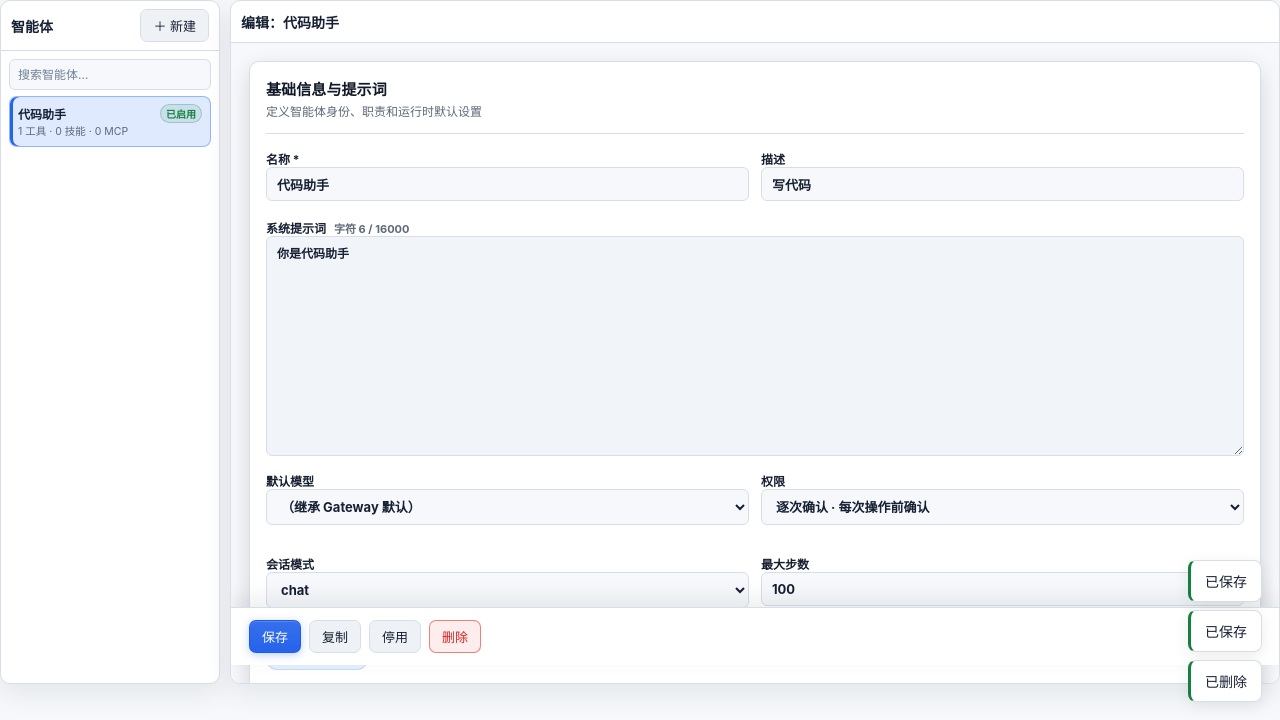
it: AgentEditorPage › blocks switching when dirty until confirmed
The width and height of the screenshot is (1280, 720).
Expected: the text "编辑：代码助手" is shown, top-left (241, 12), bottom-right (339, 32)
Step 1. Replace the text in the field labelled "名称 *" with "改名" → {"x": 508, "y": 184}, box top-left (266, 167), bottom-right (749, 201)
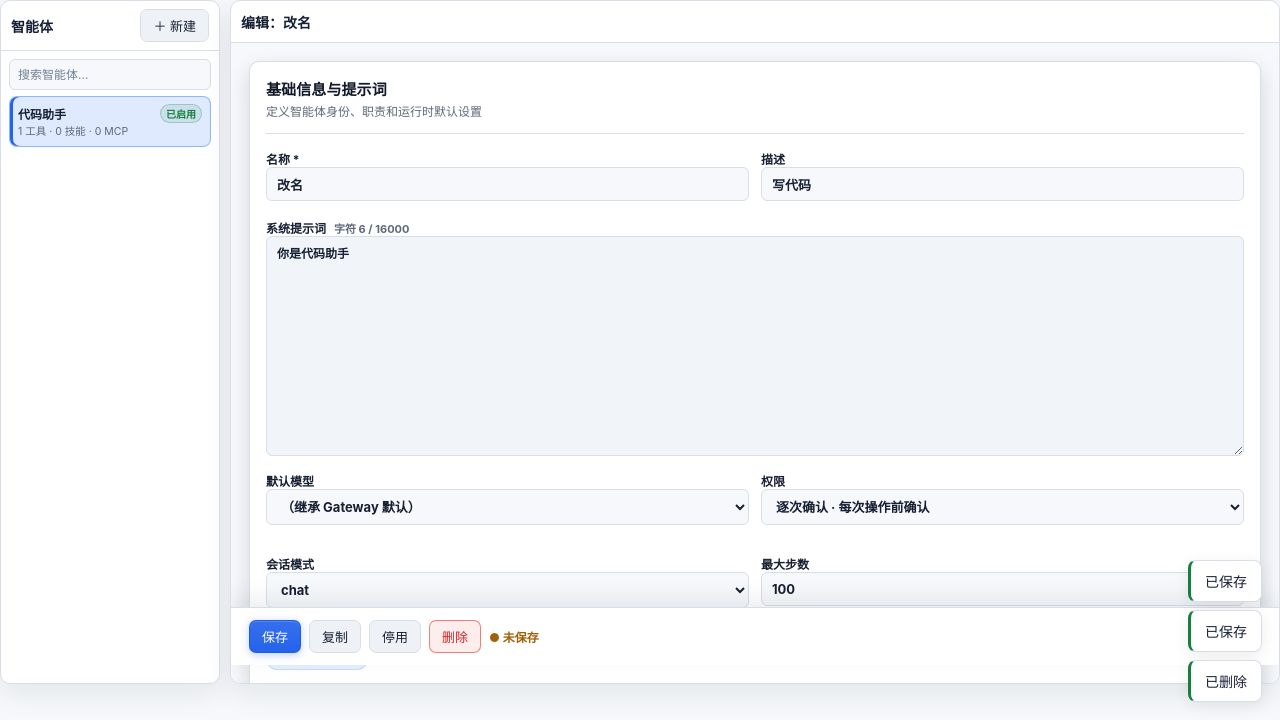
Note: dirty switch shows the confirm dialog instead of switching
Step 2. Click the text "代码助手" → {"x": 42, "y": 114}, box top-left (18, 107), bottom-right (66, 122)
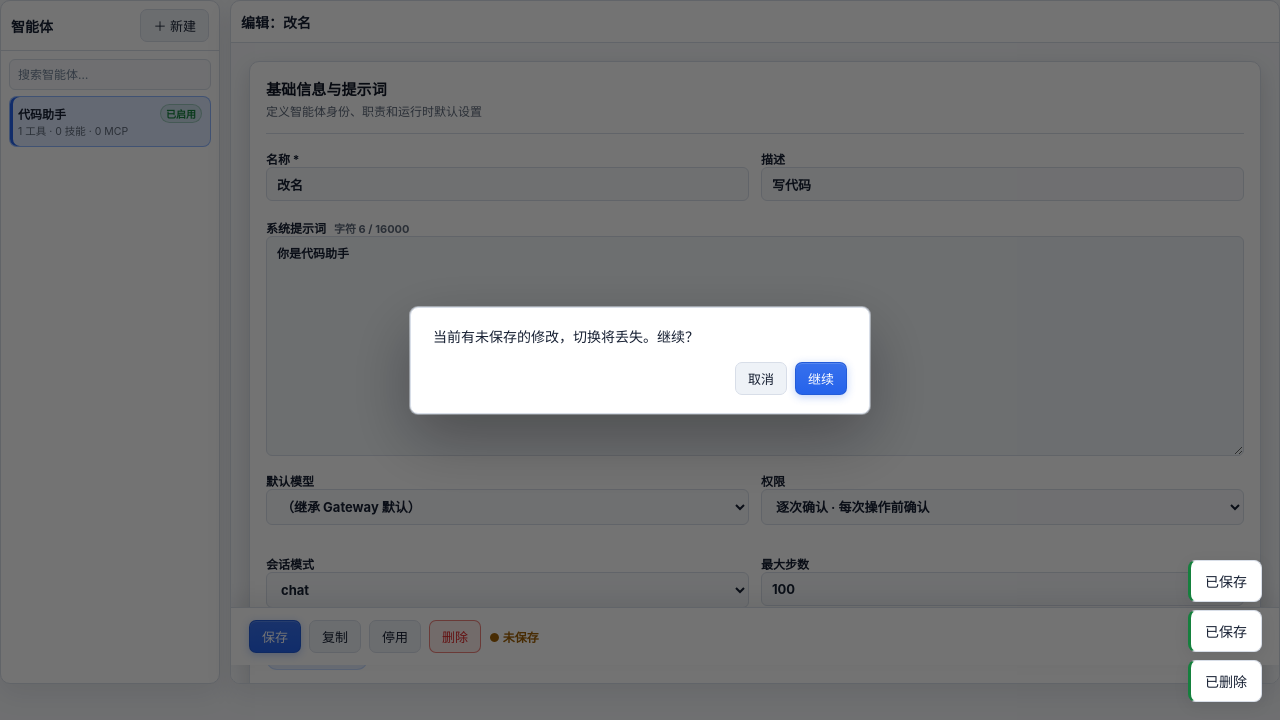
Result: the text "当前有未保存的修改，切换将丢失。继续？" is shown at top-left (433, 328), bottom-right (699, 344)
